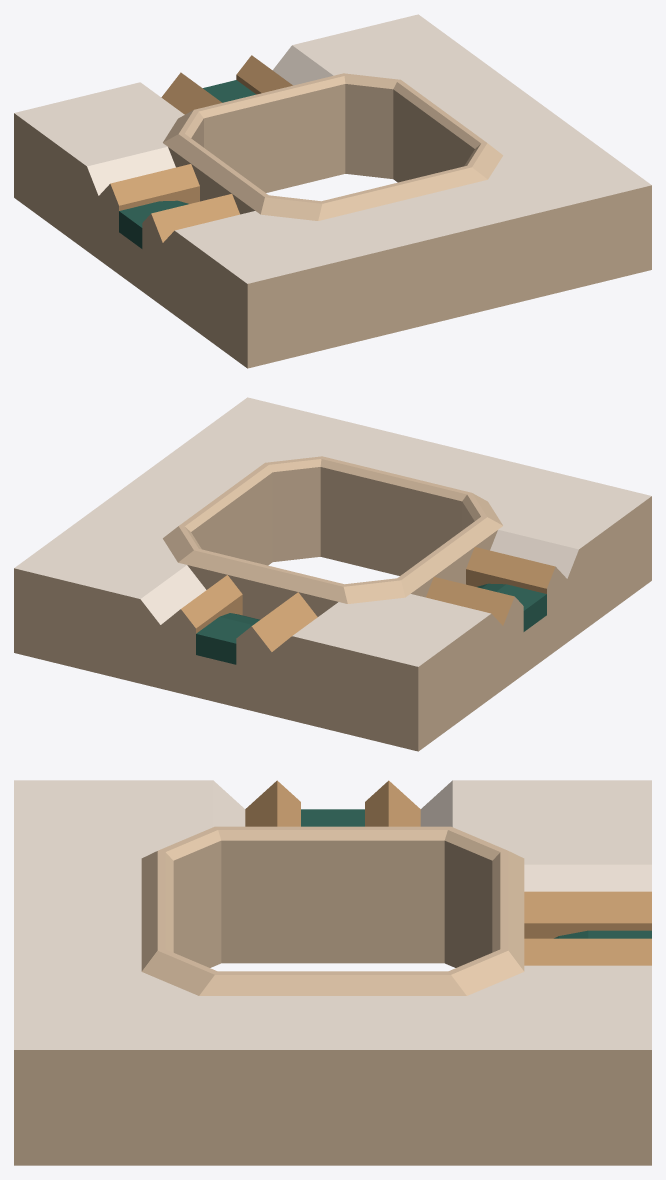
The model's file is Puzzle_Floor_Conduit_Control_Housing_Corner.fbx.
3 renders of one model, top to bottom at view 1: azimuth 30°, elevation 25°; view 2: azimuth 150°, elevation 25°; view 3: azimuth 270°, elevation 25°, orthographic. The views are drawn at different scales.
Parts seen in each view (by area): view 1: Sandstone_Trim.Sandstone_Trim.Sandstone_Trim.Sandstone_Trim., Sandstone_Floor.Sandstone_Floor.Sandstone_Floor.Sandstone_Fl, Sandstone_5.Sandstone_5, object1, object2; view 2: Sandstone_Trim.Sandstone_Trim.Sandstone_Trim.Sandstone_Trim., Sandstone_Floor.Sandstone_Floor.Sandstone_Floor.Sandstone_Fl, Sandstone_5.Sandstone_5, object2, object1; view 3: Sandstone_Trim.Sandstone_Trim.Sandstone_Trim.Sandstone_Trim., Sandstone_Floor.Sandstone_Floor.Sandstone_Floor.Sandstone_Fl, Sandstone_5.Sandstone_5, object1, object2.
Boxes of the visible parts, bbox=[...] form: Sandstone_Trim.Sandstone_Trim.Sandstone_Trim.Sandstone_Trim.: bbox=[14, 73, 651, 368]; Sandstone_Floor.Sandstone_Floor.Sandstone_Floor.Sandstone_Fl: bbox=[14, 14, 651, 283]; Sandstone_5.Sandstone_5: bbox=[110, 55, 292, 242]; object1: bbox=[119, 200, 188, 248]; object2: bbox=[203, 80, 255, 102]; Sandstone_Trim.Sandstone_Trim.Sandstone_Trim.Sandstone_Trim.: bbox=[14, 456, 651, 751]; Sandstone_Floor.Sandstone_Floor.Sandstone_Floor.Sandstone_Fl: bbox=[14, 397, 651, 666]; Sandstone_5.Sandstone_5: bbox=[181, 547, 555, 651]; object2: bbox=[196, 613, 259, 664]; object1: bbox=[477, 583, 546, 631]; Sandstone_Trim.Sandstone_Trim.Sandstone_Trim.Sandstone_Trim.: bbox=[14, 826, 651, 1165]; Sandstone_Floor.Sandstone_Floor.Sandstone_Floor.Sandstone_Fl: bbox=[14, 780, 651, 1049]; Sandstone_5.Sandstone_5: bbox=[245, 780, 651, 965]; object1: bbox=[301, 809, 364, 826]; object2: bbox=[554, 930, 651, 938].
Bounding box in the file's own units: 1 × 0.225 × 1.
